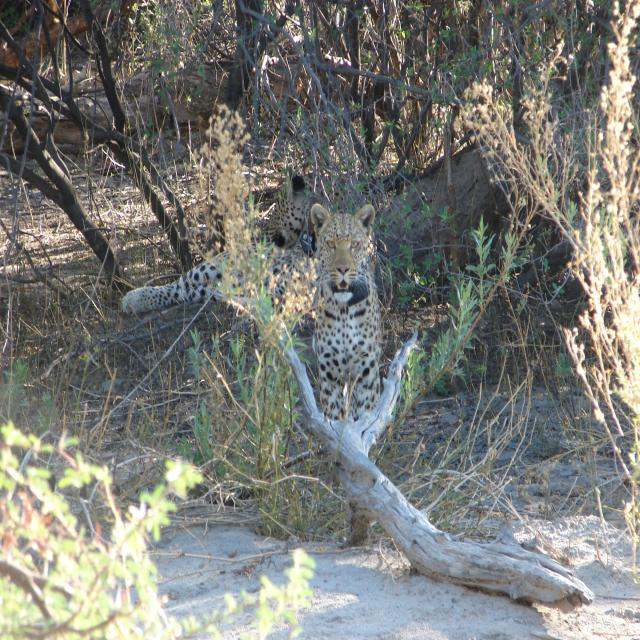Leopard: (126, 185, 385, 370)
